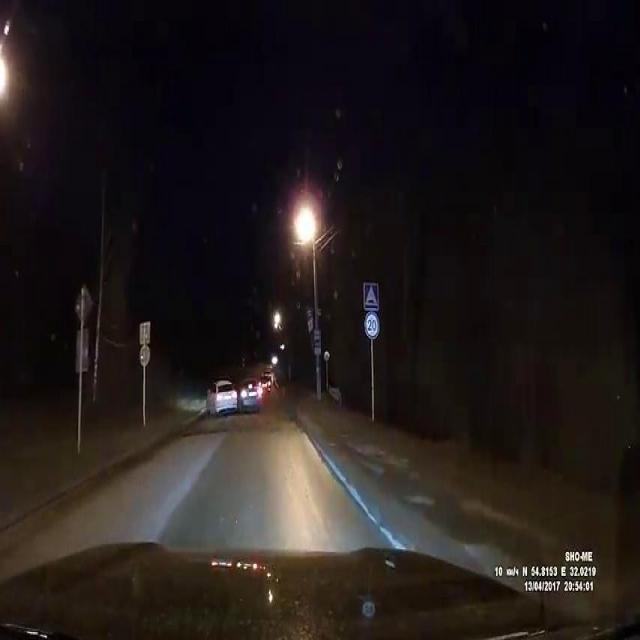vehicle: (189, 350, 272, 422)
